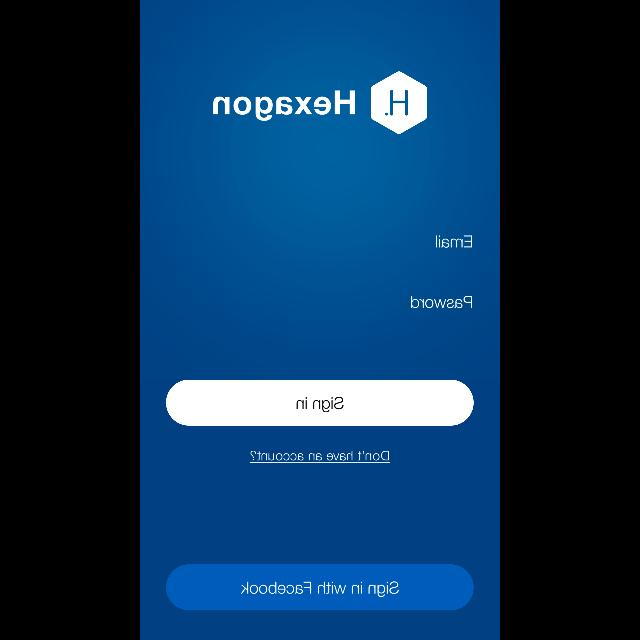image: (371, 72, 427, 134)
input: (167, 236, 473, 258), (167, 296, 473, 318)
text: (213, 90, 355, 122), (250, 451, 390, 464), (412, 296, 472, 308), (436, 236, 472, 248)
textbutton: (166, 380, 474, 426), (166, 564, 474, 610)
